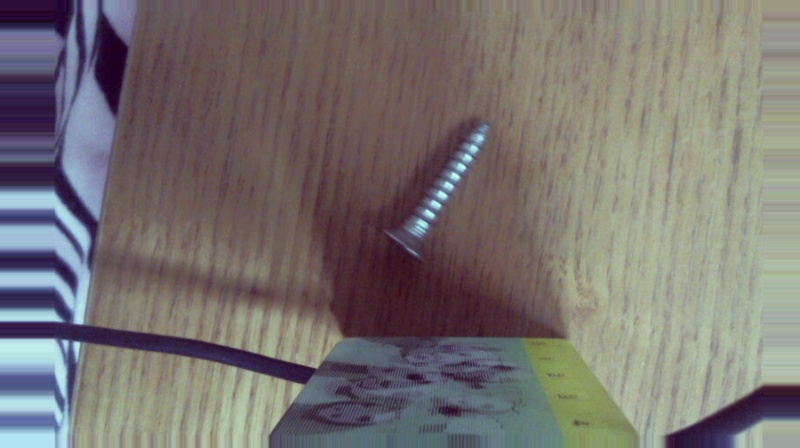S001: (377, 116, 495, 268)
